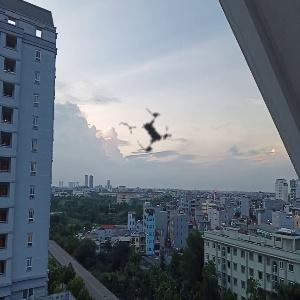drone: (103, 81, 203, 181)
